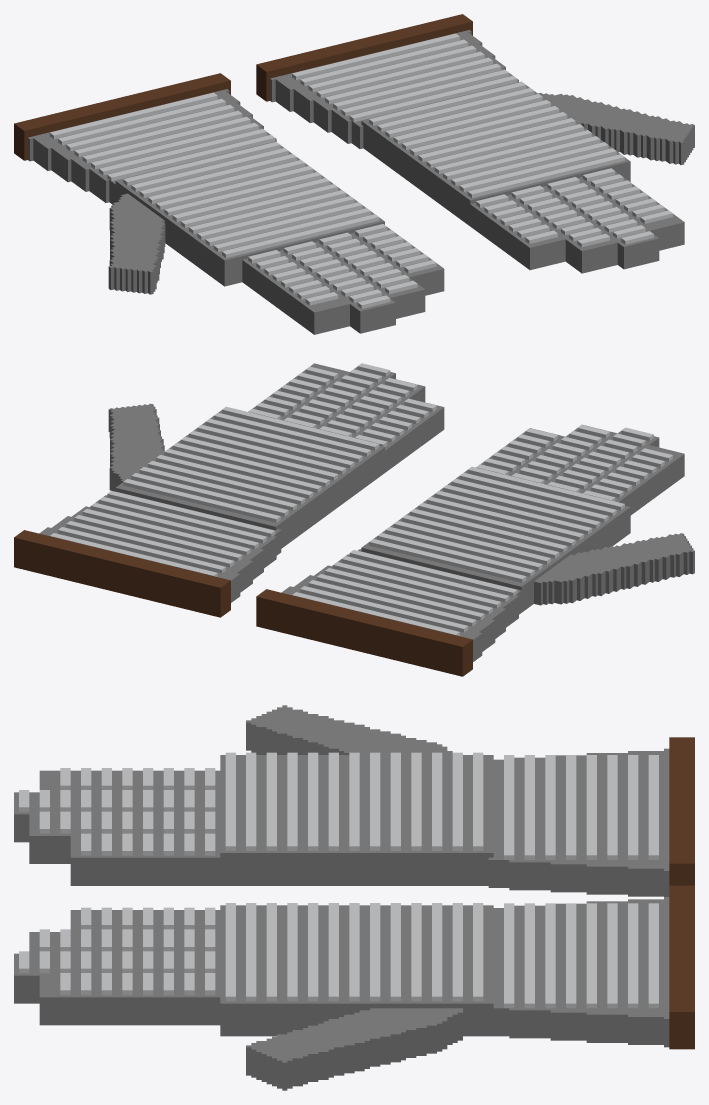
The model's file is lc_chainmail_hands.glb.
3 renders of one model, top to bottom at view 1: azimuth 30°, elevation 25°; view 2: azimuth 150°, elevation 25°; view 3: azimuth 270°, elevation 25°, orthographic. The views are drawn at different scales.
Parts seen in each view (by area): view 1: lc_chainmail_hands:compound; view 2: lc_chainmail_hands:compound; view 3: lc_chainmail_hands:compound.
Boxes of the visible parts, x1,y1,x2,y2 form: lc_chainmail_hands:compound: [14, 14, 694, 334]; lc_chainmail_hands:compound: [14, 363, 694, 676]; lc_chainmail_hands:compound: [14, 705, 694, 1090].
Bounding box in the file's own units: 0.328 × 0.016 × 0.264.
